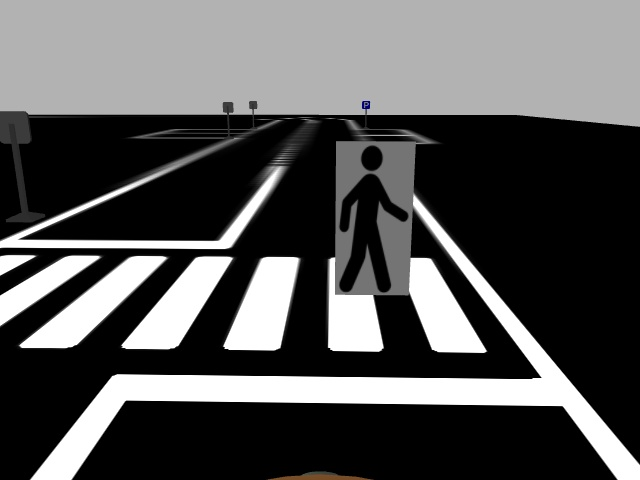parking: (359, 99, 372, 111)
pedestrian: (334, 138, 411, 297)
